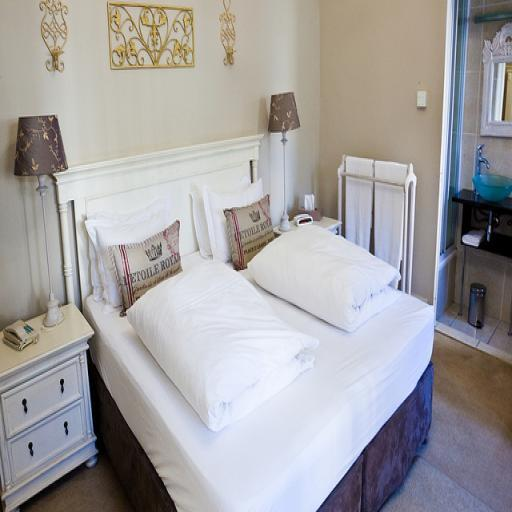bed: (52, 129, 440, 506)
